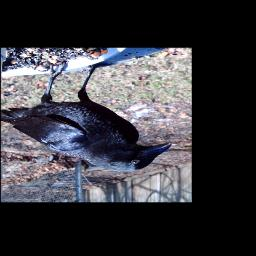Crow: (1, 61, 172, 172)
